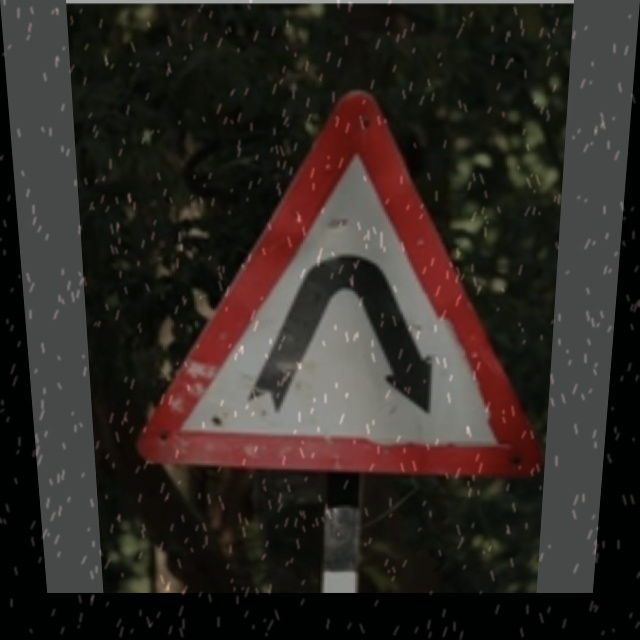Right_Hair_Pin_Bend: (122, 93, 547, 475)
